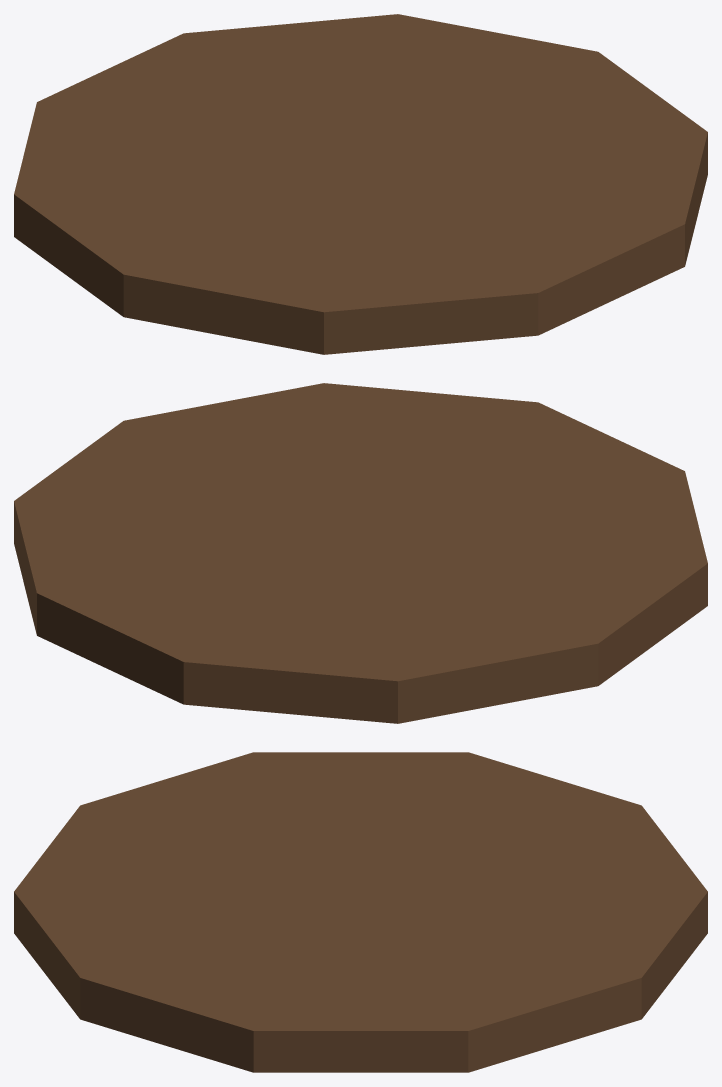
File: fase-incompleta-marrom.fbx
The picture shows the model from 3 angles, top to bottom: view 1: azimuth 30°, elevation 25°; view 2: azimuth 150°, elevation 25°; view 3: azimuth 270°, elevation 25°; orthographic projection. The views are drawn at different scales.
Parts seen in each view (by area): view 1: base-marrom; view 2: base-marrom; view 3: base-marrom.
Boxes of the visible parts, x1=… form: base-marrom: x1=14, y1=14, x2=707, y2=354; base-marrom: x1=14, y1=383, x2=707, y2=723; base-marrom: x1=14, y1=752, x2=707, y2=1072.
Bounding box in the file's own units: 14.58 × 1.02 × 15.33.
